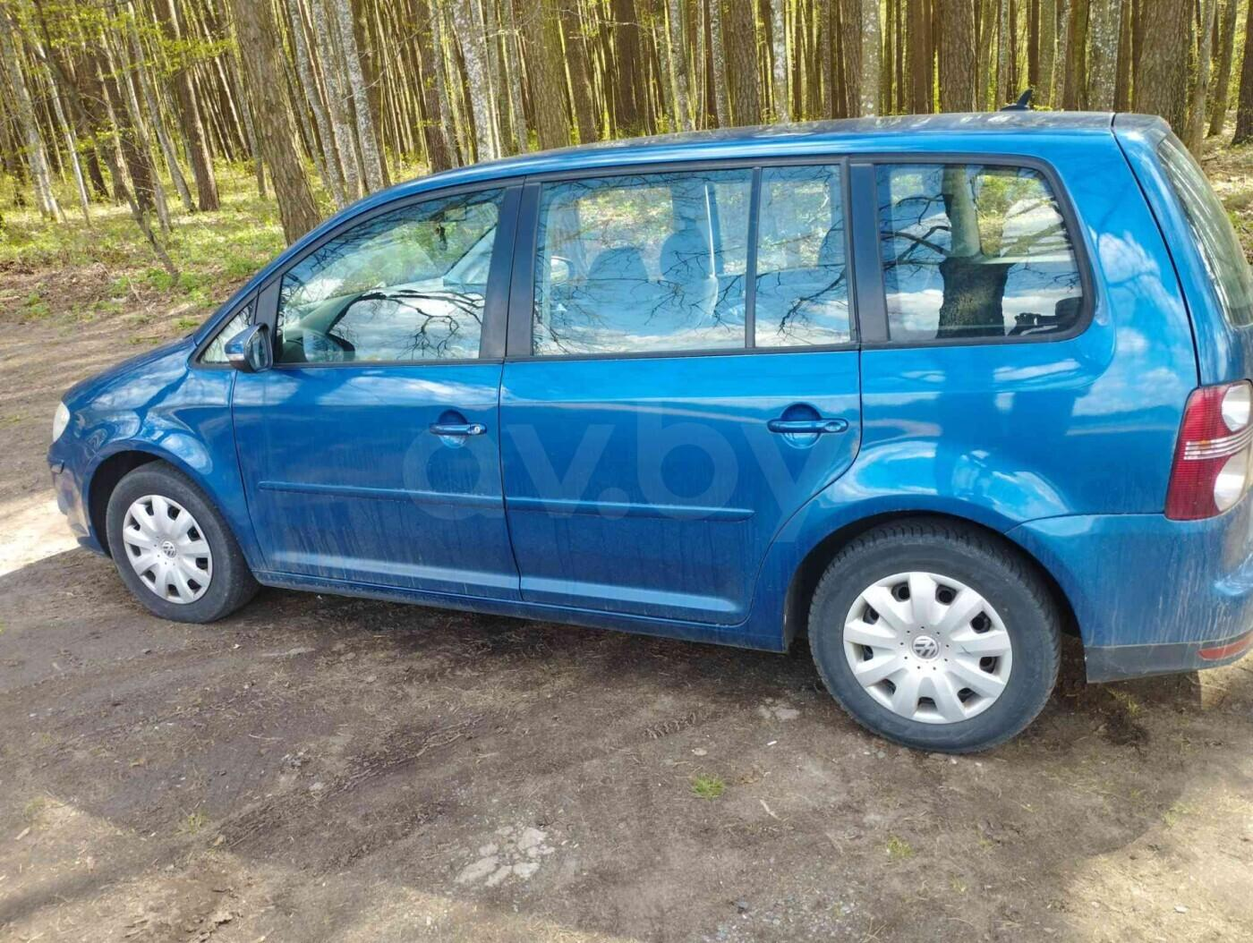Touran_2006-2010: (45, 105, 1253, 755)
